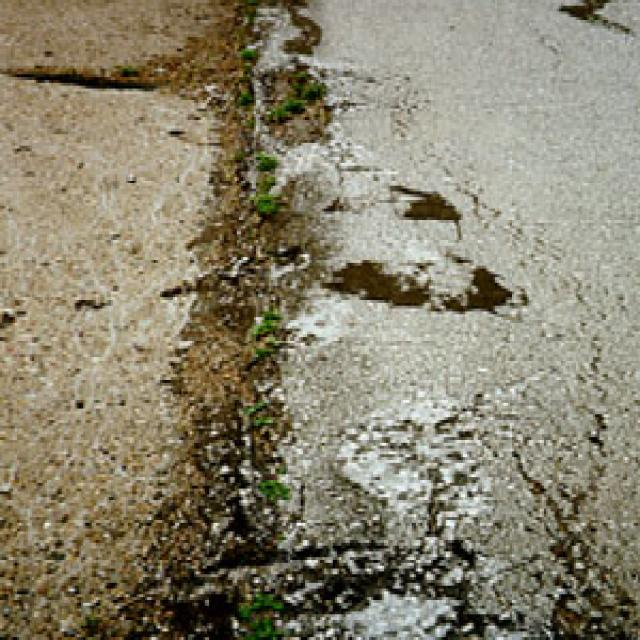Pothole: (76, 6, 640, 640)
